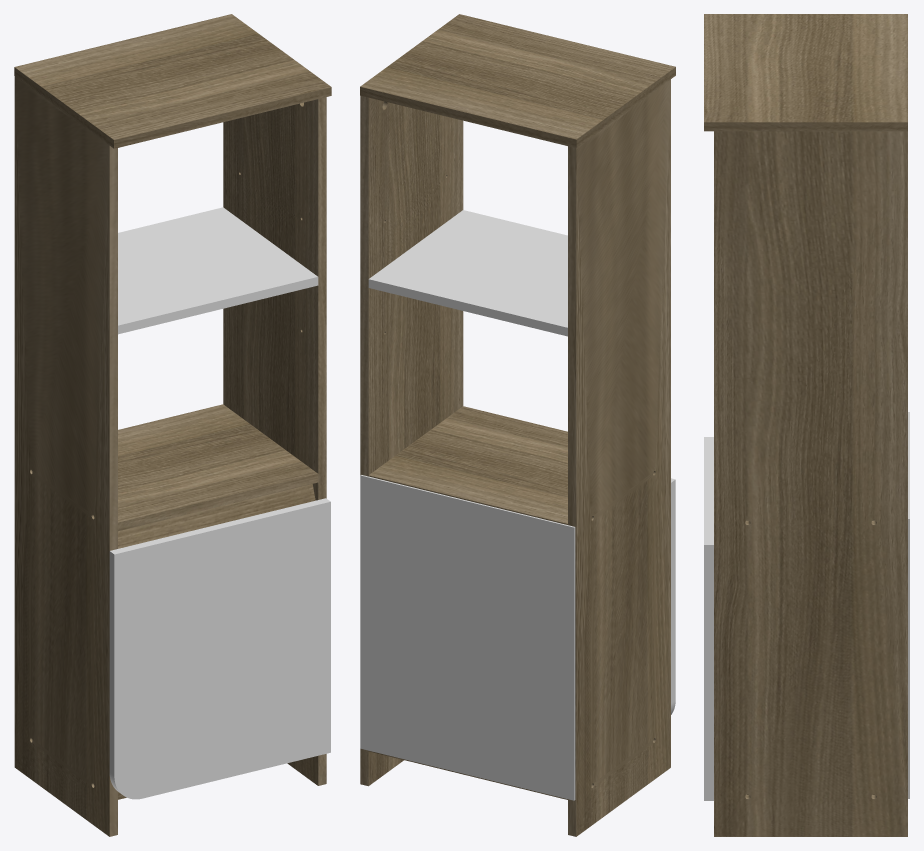
3 views of the same model, side by side, from view 1: azimuth 30°, elevation 25°; view 2: azimuth 150°, elevation 25°; view 3: azimuth 270°, elevation 25° (orthographic). The views are drawn at different scales.
Parts seen in each view (by area): view 1: Simetruc801353270-COSTADOSCO, A353270-PUERTASXPU, A353270-COSTADOSCO, A353270-TAPASXXXTA, A353270-ESTANTESPI, A353270-ESTANTESMO, A353270-FRENTESXFR001; view 2: Simetruc801353270-COSTADOSCO, A353270-FONDOSXXMU, A353270-COSTADOSCO, A353270-TAPASXXXTA, A353270-ESTANTESMO, A353270-ESTANTESPI, A353270-PUERTASXPU; view 3: A353270-COSTADOSCO, A353270-TAPASXXXTA, A353270-PUERTASXPU, A353270-FONDOSXXMU.
Boxes of the visible parts, x1,y1,x2,y2 form: Simetruc801353270-COSTADOSCO: [14, 76, 117, 836]; A353270-PUERTASXPU: [109, 498, 330, 799]; A353270-COSTADOSCO: [223, 97, 326, 785]; A353270-TAPASXXXTA: [14, 14, 331, 148]; A353270-ESTANTESPI: [118, 404, 318, 531]; A353270-ESTANTESMO: [118, 207, 318, 334]; A353270-FRENTESXFR001: [118, 484, 315, 548]; Simetruc801353270-COSTADOSCO: [568, 79, 670, 836]; A353270-FONDOSXXMU: [360, 475, 575, 800]; A353270-COSTADOSCO: [360, 95, 463, 786]; A353270-TAPASXXXTA: [360, 14, 675, 148]; A353270-ESTANTESMO: [368, 210, 567, 336]; A353270-ESTANTESPI: [368, 406, 567, 524]; A353270-PUERTASXPU: [671, 478, 675, 714]; A353270-COSTADOSCO: [714, 131, 907, 836]; A353270-TAPASXXXTA: [704, 14, 907, 131]; A353270-PUERTASXPU: [704, 437, 713, 800]; A353270-FONDOSXXMU: [908, 412, 909, 798].
Size of the model in its own units: 0.39 by 1.2 by 0.313.
Materials: 1 (1 with a texture image).
